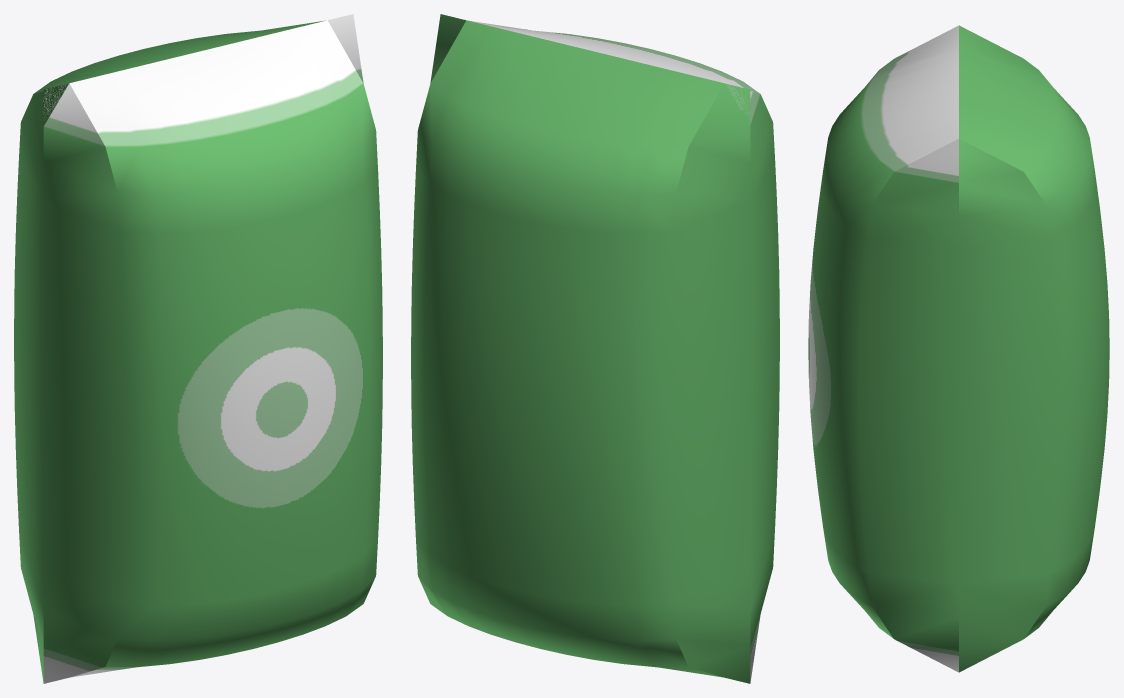
The model's file is Frozen_Peas.fbx.
3 renders of one model, left to right at view 1: azimuth 30°, elevation 25°; view 2: azimuth 150°, elevation 25°; view 3: azimuth 270°, elevation 25°, orthographic. The views are drawn at different scales.
Parts seen in each view (by area): view 1: Frozen_Peas; view 2: Frozen_Peas; view 3: Frozen_Peas.
Part boxes in pixels (bbox=[...]): Frozen_Peas: bbox=[14, 14, 382, 683]; Frozen_Peas: bbox=[411, 14, 779, 683]; Frozen_Peas: bbox=[808, 25, 1109, 672].
Bounding box in the file's own units: 0.12 × 0.22 × 0.1125.
2 materials, 1 textured.
